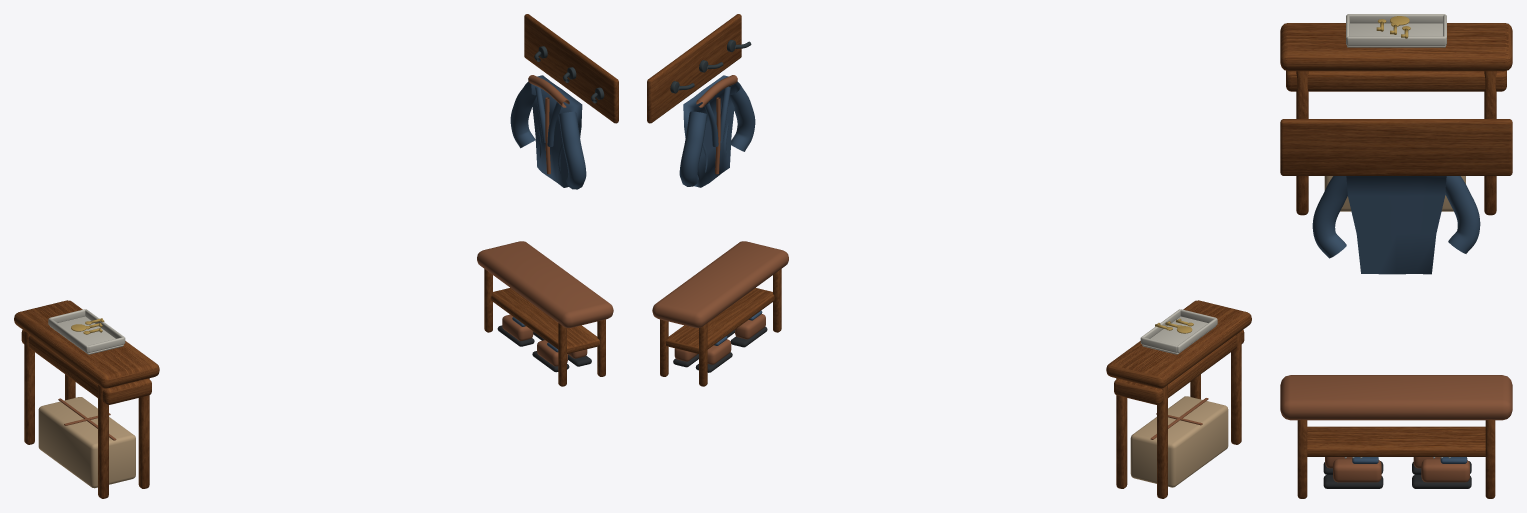
The model's file is c19_hall_entry_original.glb.
3 views of the same model, side by side, from view 1: azimuth 30°, elevation 25°; view 2: azimuth 150°, elevation 25°; view 3: azimuth 270°, elevation 25° (orthographic). The views are drawn at different scales.
Visible parts, largest first — view 1: C19_Runtime_C19_madeira_sobria_Wood026, C19_Runtime_C19_couro_conhaque_fosco, C19_Runtime_C19_papelao_natural, C19_Runtime_C19_tecido_casaco_azul_profundo, C19_Runtime_C19_ceramica_fosca; view 2: C19_Runtime_C19_madeira_sobria_Wood026, C19_Runtime_C19_couro_conhaque_fosco, C19_Runtime_C19_papelao_natural, C19_Runtime_C19_tecido_casaco_azul_profundo, C19_Runtime_C19_ceramica_fosca; view 3: C19_Runtime_C19_madeira_sobria_Wood026, C19_Runtime_C19_couro_conhaque_fosco, C19_Runtime_C19_tecido_casaco_azul_profundo, C19_Runtime_C19_ceramica_fosca, C19_Runtime_C19_sola_borracha, C19_Runtime_C19_chaves_latão_envelhecido, C19_Runtime_C19_papelao_natural.
Part boxes in pixels (bbox=[...]): C19_Runtime_C19_madeira_sobria_Wood026: bbox=[14, 14, 618, 498]; C19_Runtime_C19_couro_conhaque_fosco: bbox=[58, 75, 613, 440]; C19_Runtime_C19_papelao_natural: bbox=[38, 397, 135, 488]; C19_Runtime_C19_tecido_casaco_azul_profundo: bbox=[510, 75, 586, 352]; C19_Runtime_C19_ceramica_fosca: bbox=[48, 309, 125, 354]; C19_Runtime_C19_madeira_sobria_Wood026: bbox=[647, 14, 1251, 498]; C19_Runtime_C19_couro_conhaque_fosco: bbox=[652, 75, 1208, 439]; C19_Runtime_C19_papelao_natural: bbox=[1130, 396, 1228, 487]; C19_Runtime_C19_tecido_casaco_azul_profundo: bbox=[679, 75, 762, 345]; C19_Runtime_C19_ceramica_fosca: bbox=[1140, 309, 1217, 354]; C19_Runtime_C19_madeira_sobria_Wood026: bbox=[1280, 23, 1512, 498]; C19_Runtime_C19_couro_conhaque_fosco: bbox=[1280, 375, 1512, 482]; C19_Runtime_C19_tecido_casaco_azul_profundo: bbox=[1312, 176, 1480, 463]; C19_Runtime_C19_ceramica_fosca: bbox=[1346, 14, 1446, 47]; C19_Runtime_C19_sola_borracha: bbox=[1323, 461, 1471, 488]; C19_Runtime_C19_chaves_latão_envelhecido: bbox=[1376, 16, 1410, 38]; C19_Runtime_C19_papelao_natural: bbox=[1324, 176, 1465, 211].
Size of the model in its own units: 3.43 by 1.91 by 1.05.
Materials: 9 (1 with a texture image).
